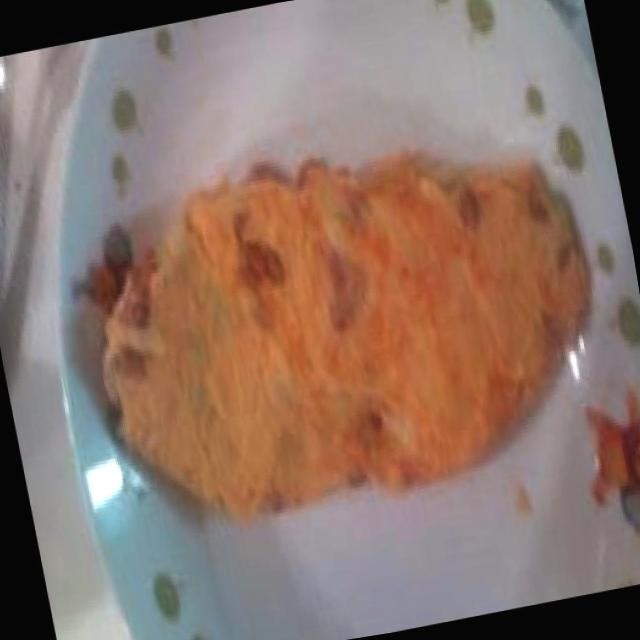Omelet: (59, 115, 616, 549)
